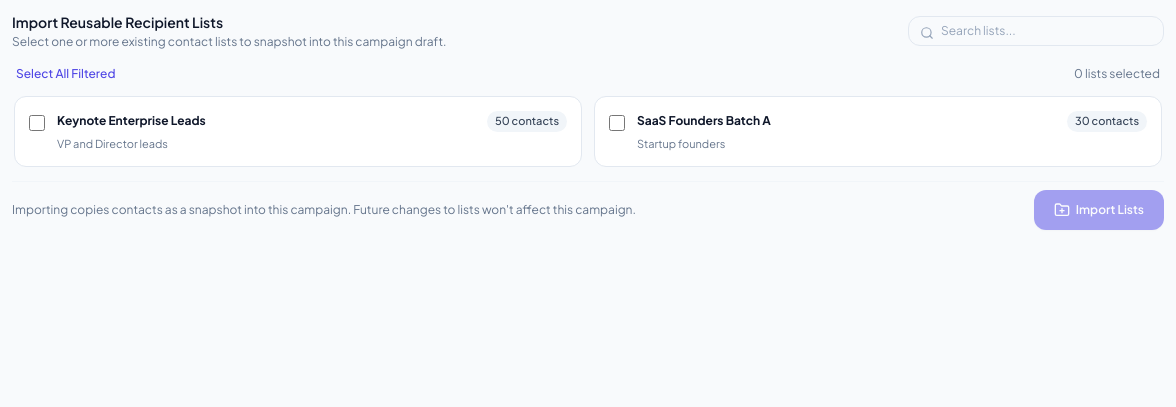
it: CampaignRecipientListSelector (Milestone R4) › renders recipient lists and supports multi-selection and import
The image size is (1176, 407).
Expected: the heading "SaaS Founders Batch A" is shown, x1=637 y1=113 x2=771 y2=129
Expected: the text "50 contacts" is shown, x1=487 y1=111 x2=567 y2=132
Note: Select the first list
Click the heading "Keynote Enterprise Leads": click(131, 121) x1=57 y1=113 x2=206 y2=129
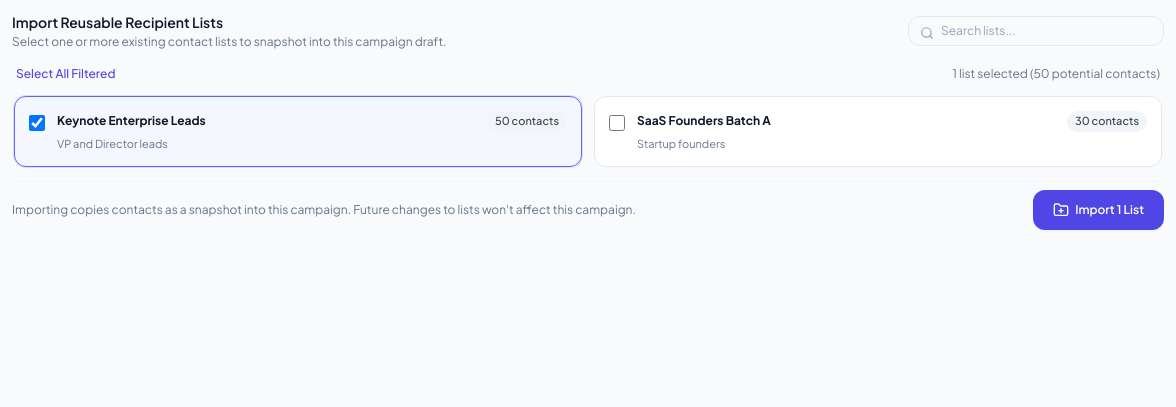
Expected: the text "1 list selected (50 potential contacts)" is shown, x1=952 y1=66 x2=1160 y2=82
Note: Select the second list
Click the heading "SaaS Founders Batch A": click(704, 121) x1=637 y1=113 x2=771 y2=129
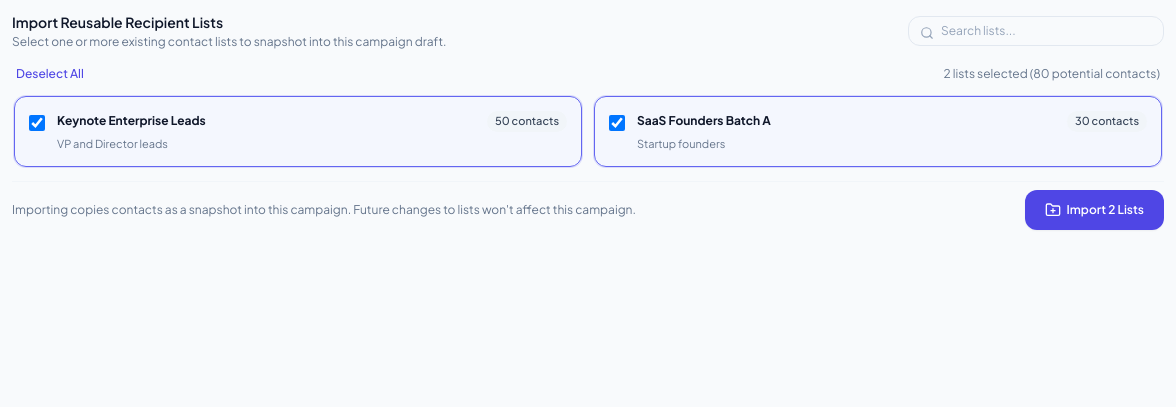
Expected: the text "2 lists selected (80 potential contacts)" is shown, x1=943 y1=66 x2=1160 y2=82
Note: Trigger Import
Click the button "Import 2 Lists": click(1094, 210) x1=1024 y1=190 x2=1164 y2=230
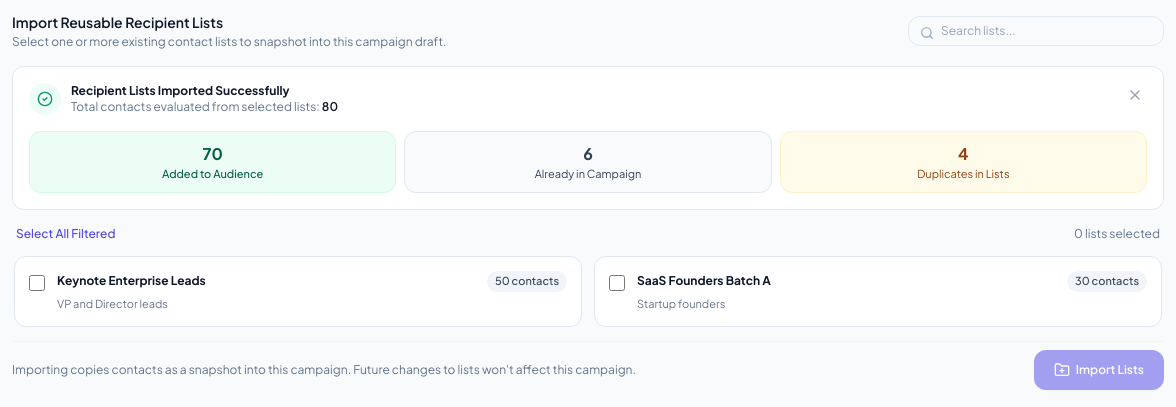
Expected: the heading "Recipient Lists Imported Successfully" is shown, x1=71 y1=83 x2=290 y2=98
Expected: the text "Added to Audience" is shown, x1=162 y1=167 x2=263 y2=180
Expected: the text "70" is shown, x1=202 y1=143 x2=223 y2=164
